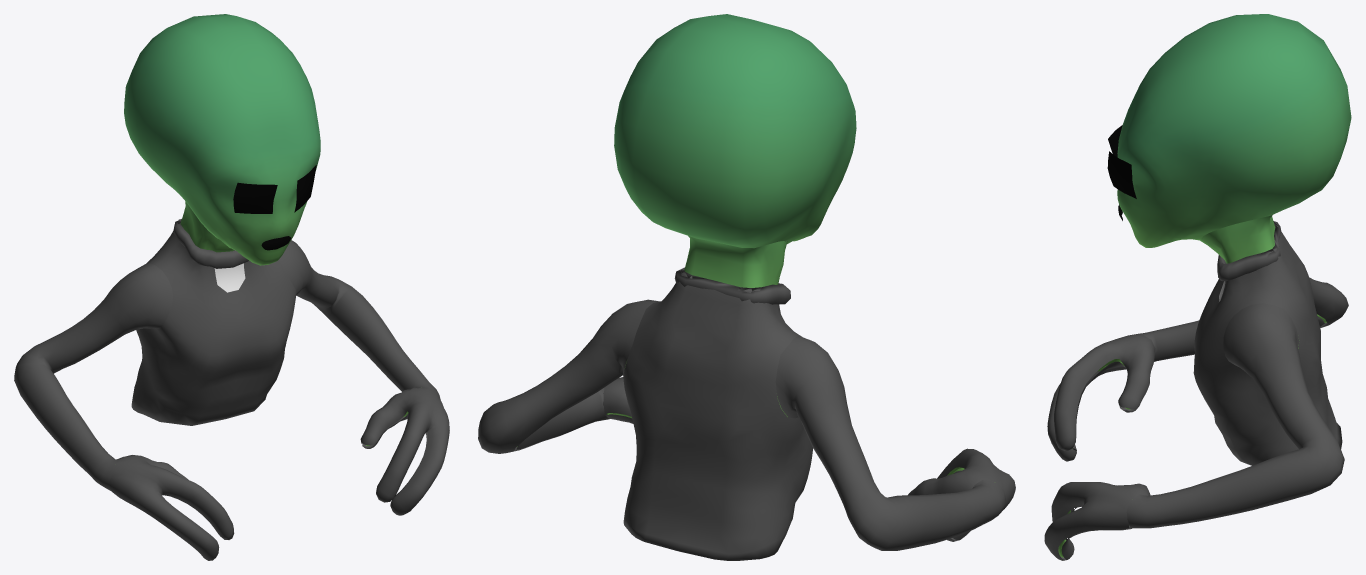
File: boss.fbx
3 views of the same model, side by side, from view 1: azimuth 30°, elevation 25°; view 2: azimuth 150°, elevation 25°; view 3: azimuth 270°, elevation 25° (orthographic). The views are drawn at different scales.
Visible parts, largest first — view 1: node_id5.002, node_id5.001, Plane.001; view 2: node_id5.002, node_id5.001; view 3: node_id5.002, node_id5.001, Plane.001.
Part boxes in pixels (<box>): node_id5.002: <box>14,219,449,560</box>; node_id5.001: <box>124,14,408,445</box>; Plane.001: <box>233,165,316,213</box>; node_id5.002: <box>478,267,1015,560</box>; node_id5.001: <box>517,14,964,475</box>; node_id5.002: <box>1044,221,1348,560</box>; node_id5.001: <box>1058,14,1351,557</box>; Plane.001: <box>1107,125,1136,198</box>.
Bounding box in the file's own units: 5.03 × 6.24 × 3.59.
